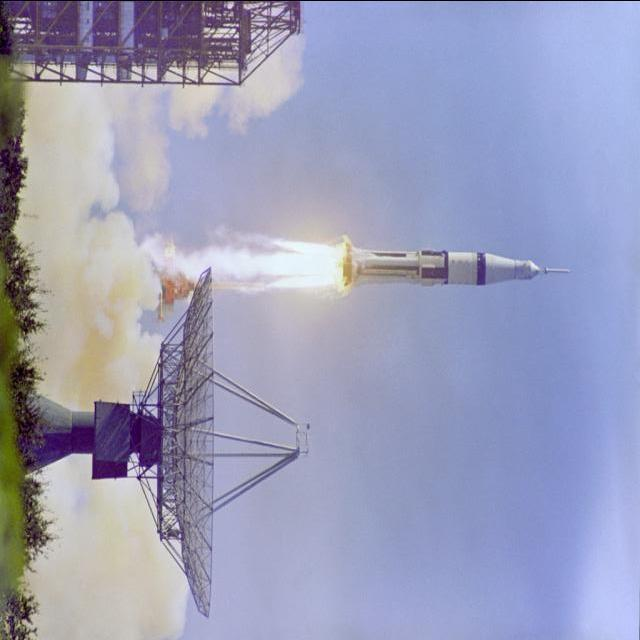missile: (340, 241, 572, 301)
